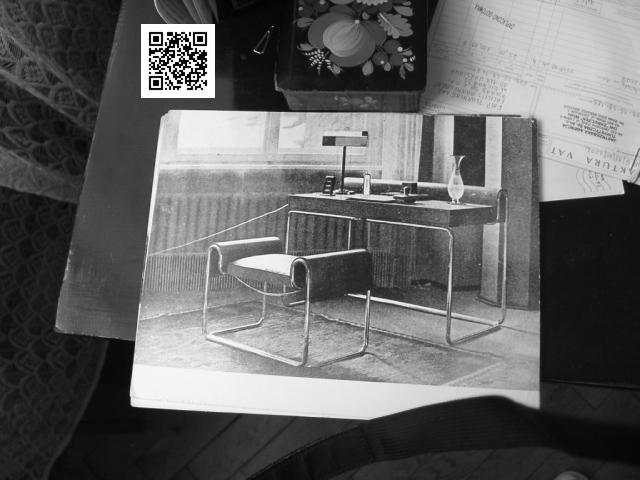qr_code: (141, 23, 215, 98)
